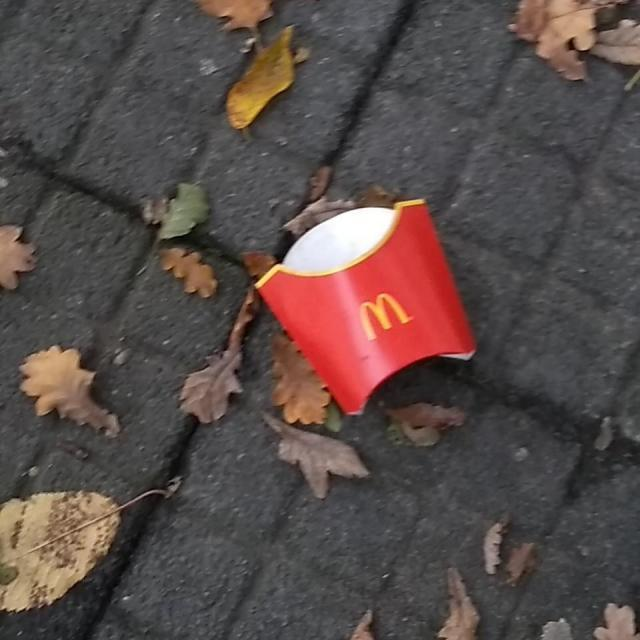Paper: (252, 194, 478, 418)
